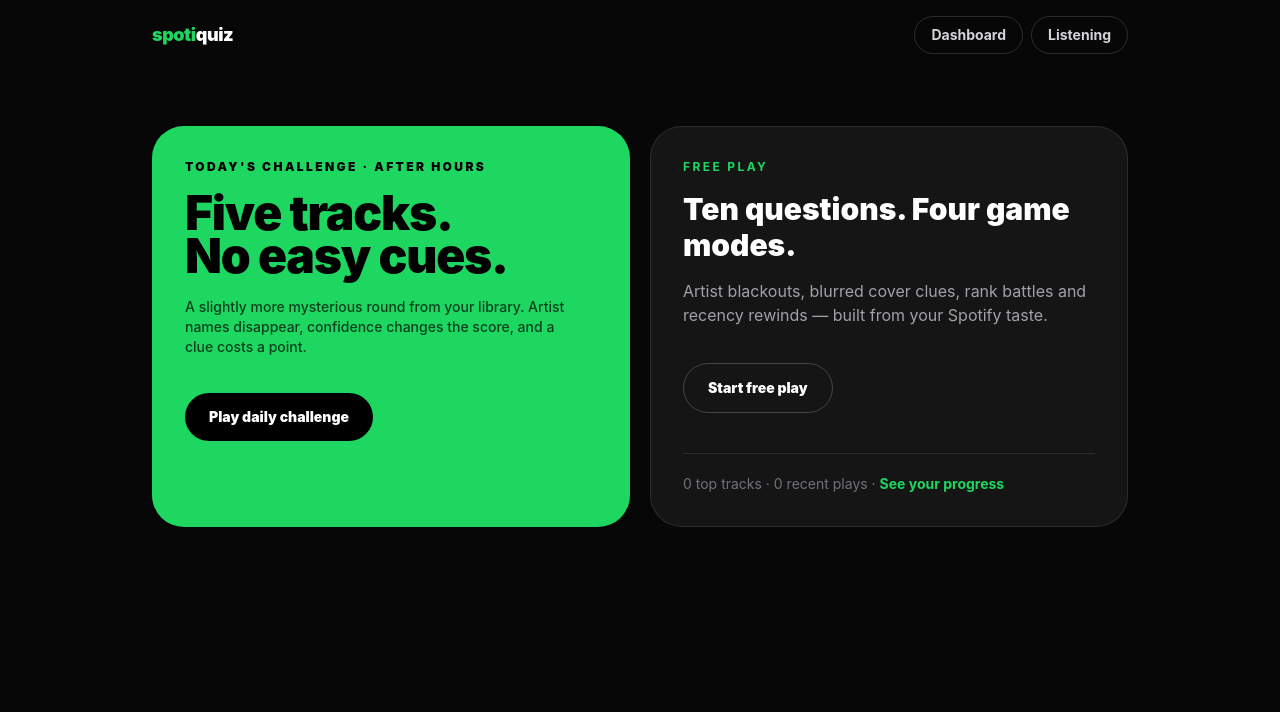
Test: QuizComponent › allows the player to return to the game selection after a result
Click the button "Start free play".
click(758, 388)  # box top-left (683, 363), bottom-right (833, 413)
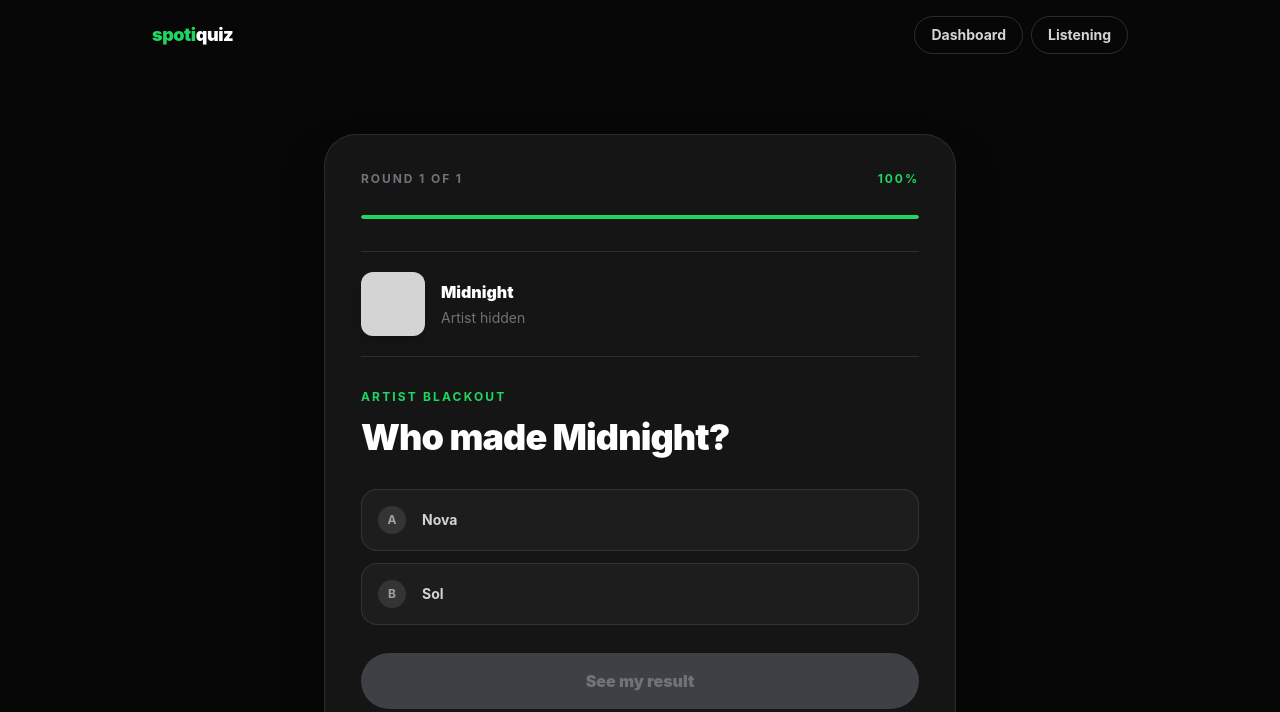
Click the button "A Nova".
click(440, 520)  # box top-left (361, 489), bottom-right (919, 551)
(page scrolled)
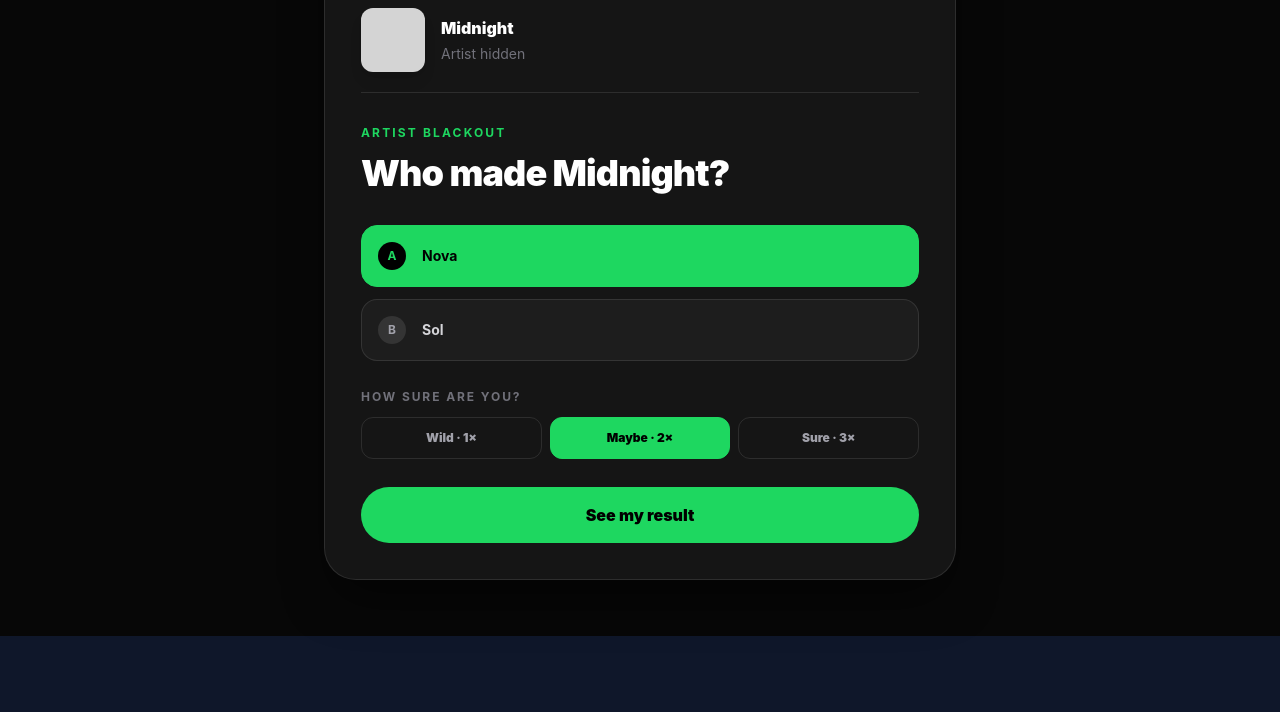
Click the button "See my result".
click(640, 515)  # box top-left (361, 487), bottom-right (919, 543)
(page scrolled)
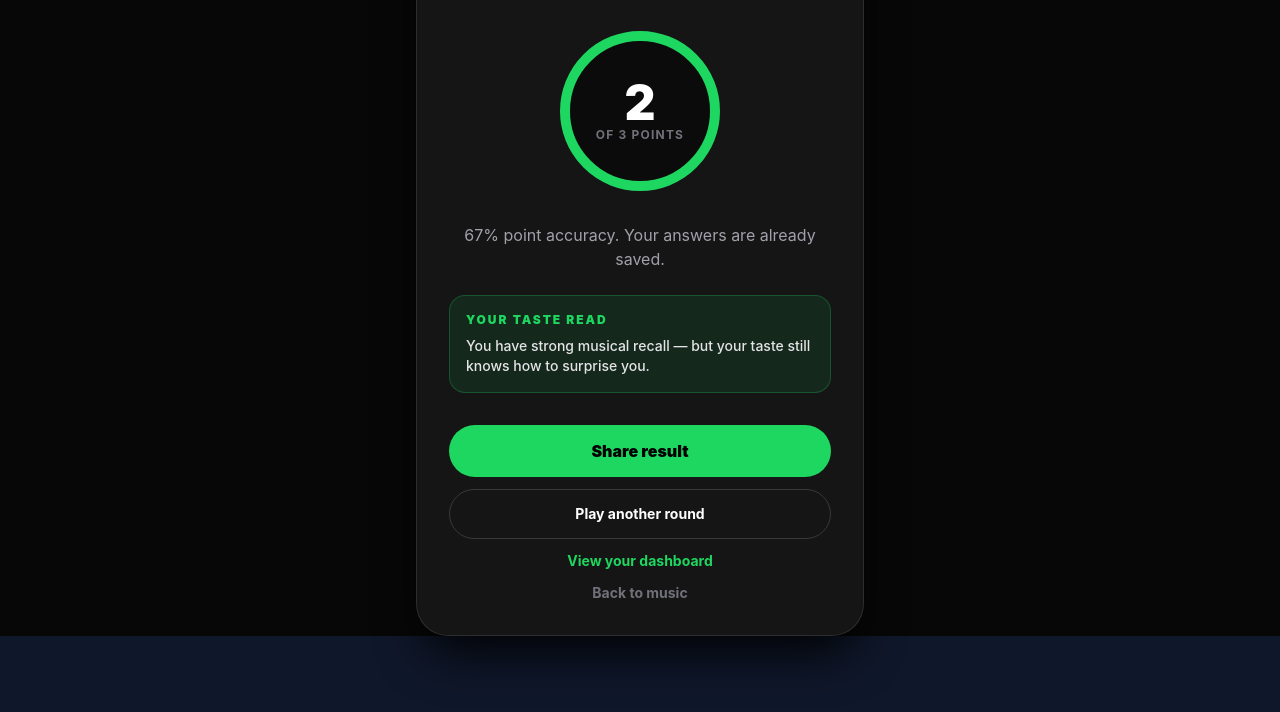
Click the button "Back to music".
click(640, 593)  # box top-left (449, 583), bottom-right (831, 603)
(page scrolled)
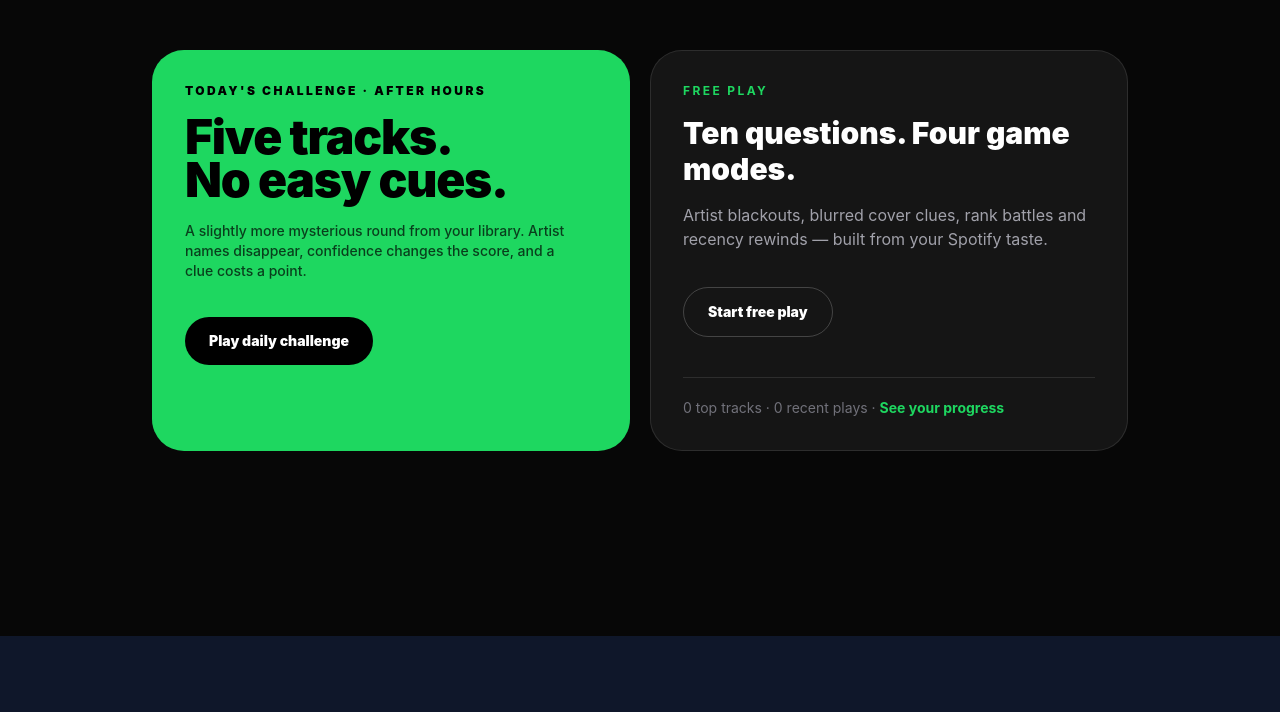
Check: the button "Play daily challenge" is shown, box top-left (185, 317), bottom-right (373, 365)
